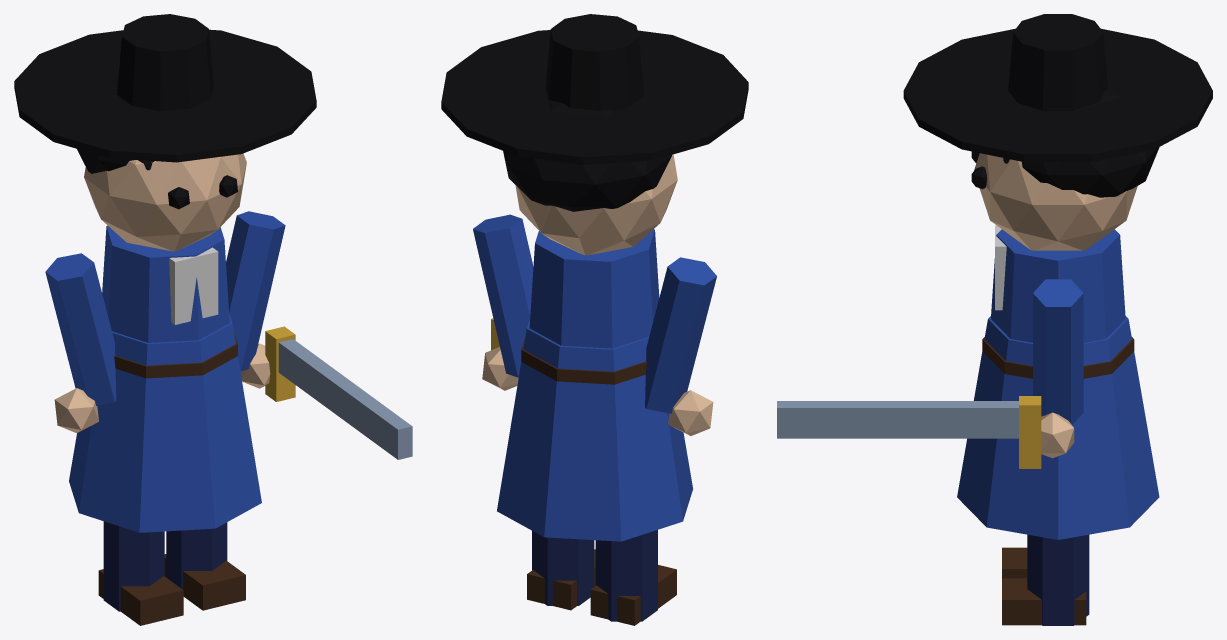
Rendered from SM_GZ_player.fbx.
3 renders of one model, left to right at view 1: azimuth 30°, elevation 25°; view 2: azimuth 150°, elevation 25°; view 3: azimuth 270°, elevation 25°, orthographic.
Parts seen in each view (by area): view 1: SM_GZ_player; view 2: SM_GZ_player; view 3: SM_GZ_player.
Boxes of the visible parts, <box> form: SM_GZ_player: <box>14,14,412,625</box>; SM_GZ_player: <box>441,14,748,625</box>; SM_GZ_player: <box>777,14,1212,625</box>.
Size of the model in its own units: 107 by 222 by 155.
